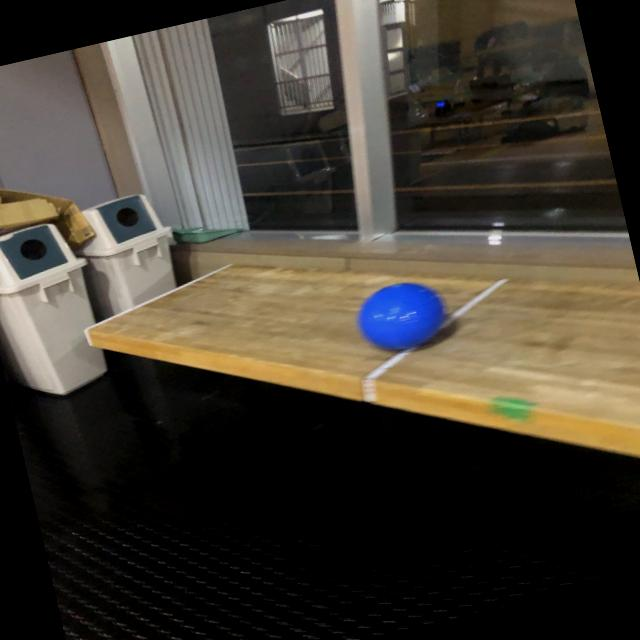blue_ball: (356, 268, 456, 358)
